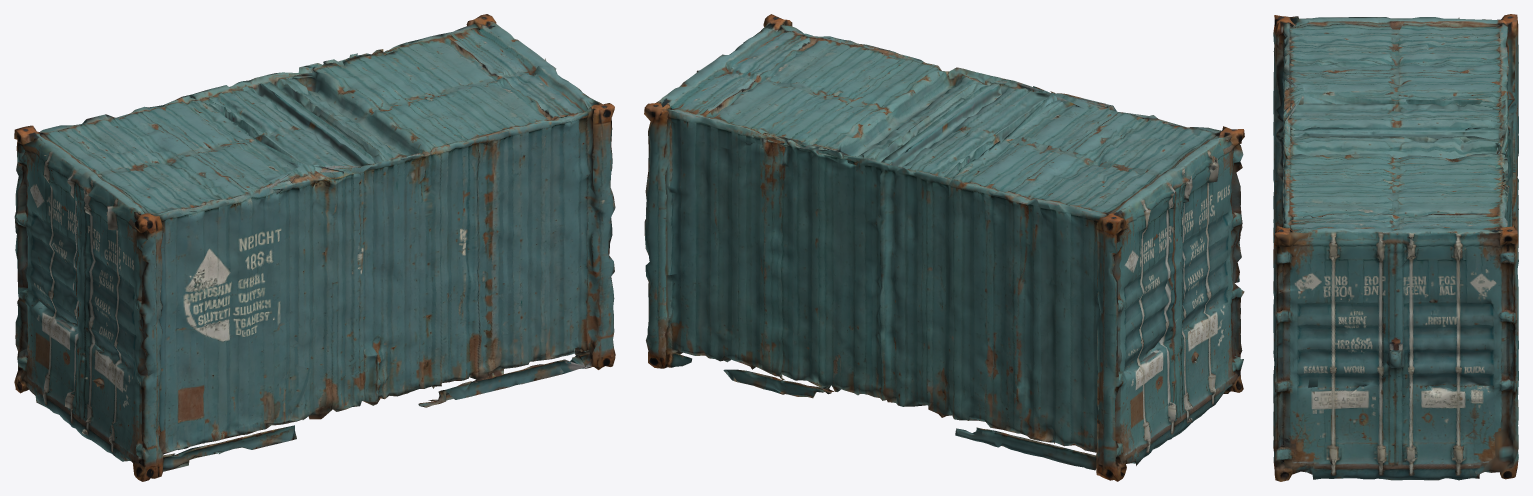
The model's file is Prop_Container.glb.
3 views of the same model, side by side, from view 1: azimuth 30°, elevation 25°; view 2: azimuth 150°, elevation 25°; view 3: azimuth 270°, elevation 25° (orthographic). The views are drawn at different scales.
Visible parts, largest first — view 1: texture_mapping; view 2: texture_mapping; view 3: texture_mapping.
Boxes of the visible parts, x1,y1,x2,y2 form: texture_mapping: [14, 14, 615, 481]; texture_mapping: [644, 14, 1244, 481]; texture_mapping: [1273, 14, 1518, 481].
Bounding box in the file's own units: 0.9941 × 0.5176 × 0.4594.
Materials: 1 (1 with a texture image).
